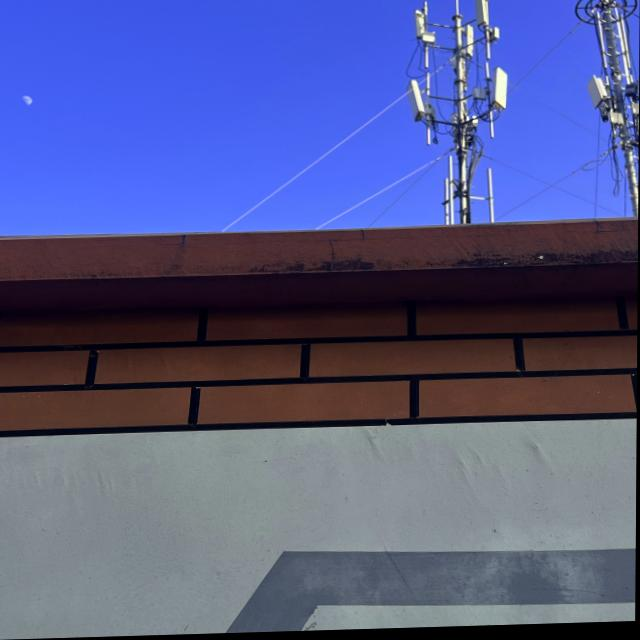crack: (157, 223, 638, 255)
spalling: (233, 240, 638, 281)
